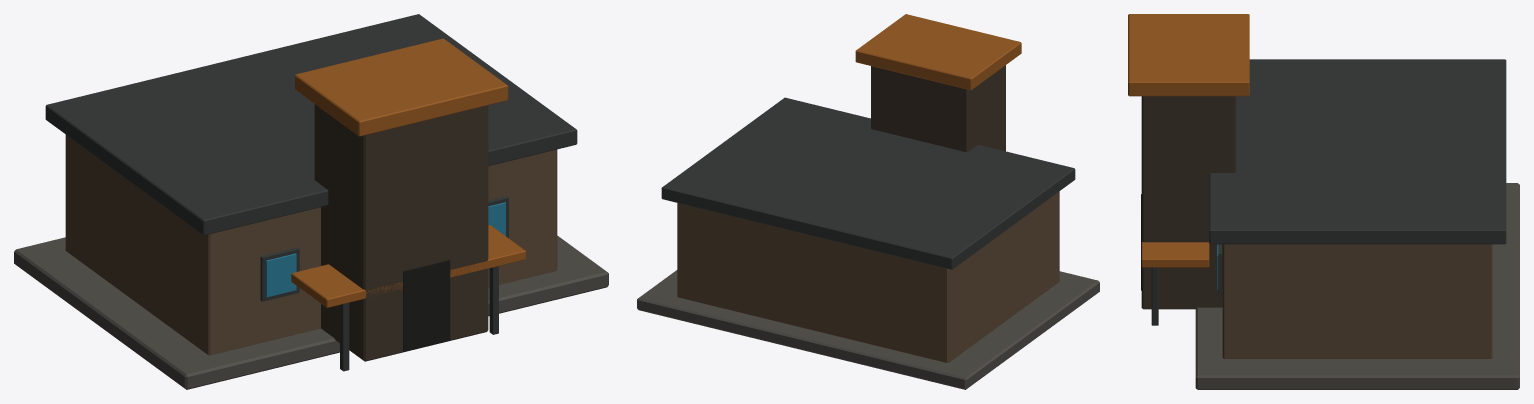
File: BrassFoundryAdminHall.glb
3 renders of one model, left to right at view 1: azimuth 30°, elevation 25°; view 2: azimuth 150°, elevation 25°; view 3: azimuth 270°, elevation 25°, orthographic. The views are drawn at different scales.
Visible parts, largest first — view 1: BrassFoundryAdminHall; view 2: BrassFoundryAdminHall; view 3: BrassFoundryAdminHall.
Boxes of the visible parts, left/top/right/bottom form: BrassFoundryAdminHall: left=14, top=14, right=608, bottom=389; BrassFoundryAdminHall: left=637, top=14, right=1099, bottom=389; BrassFoundryAdminHall: left=1128, top=14, right=1519, bottom=389.
Size of the model in its own units: 34 by 20.1 by 29.
1 material, 1 textured.
